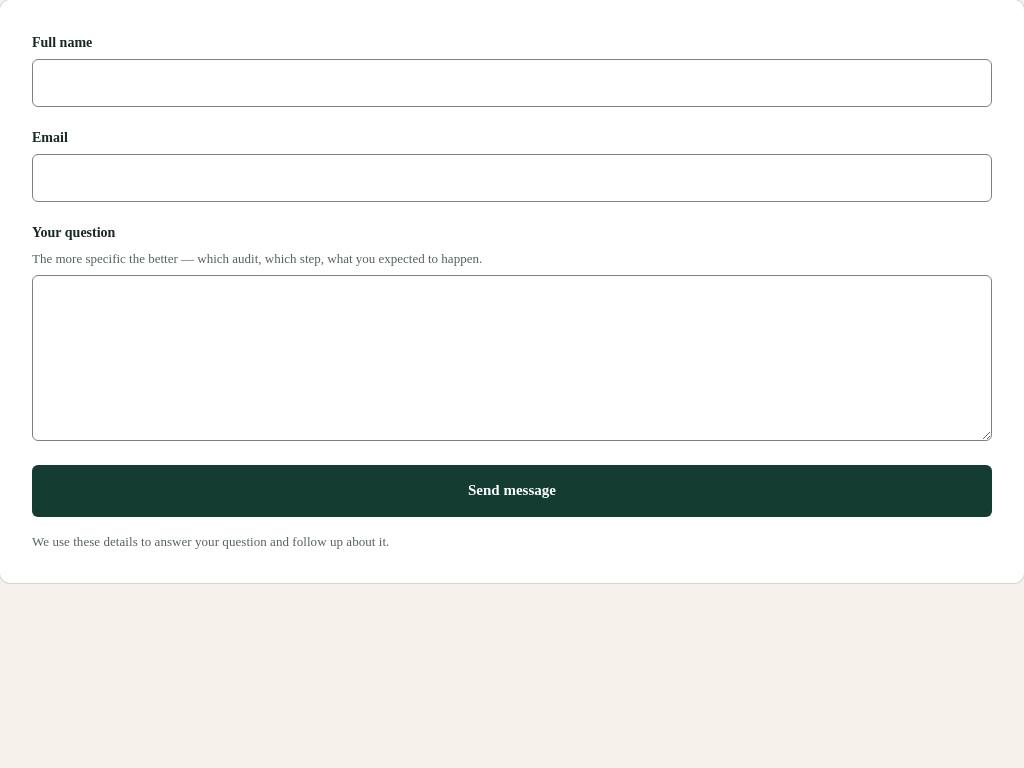
Test: support form › explains Retry-After and retains the draft
Type "Asha Rao" into the field labelled "Full name" at (512, 83), box x1=32 y1=59 x2=992 y2=107
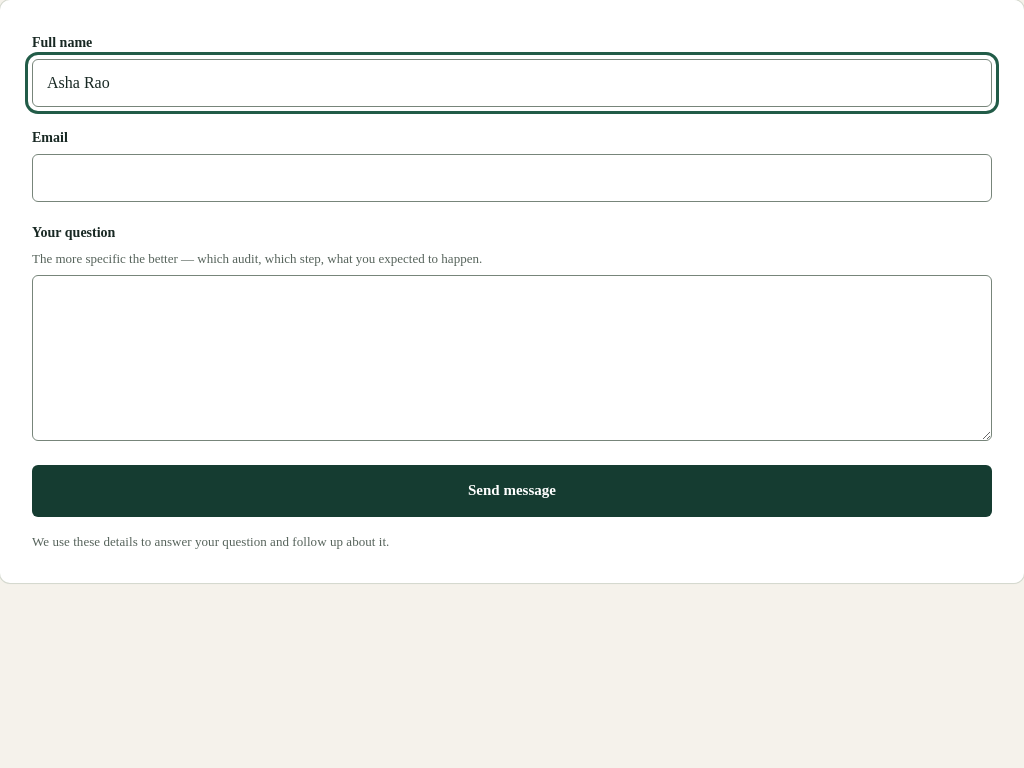
Type "asha@example.com" into the field labelled "Email" at (512, 178), box x1=32 y1=154 x2=992 y2=202
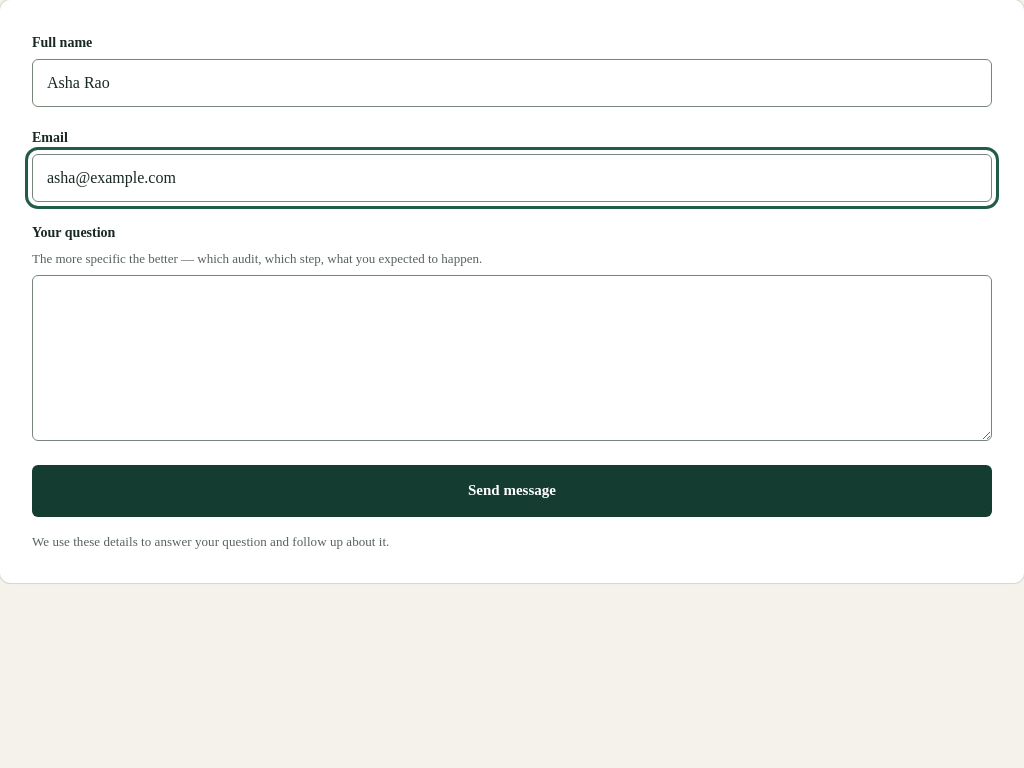
Type "Synthetic support question" into the text box labelled "Your question" at (512, 358), box x1=32 y1=274 x2=992 y2=440
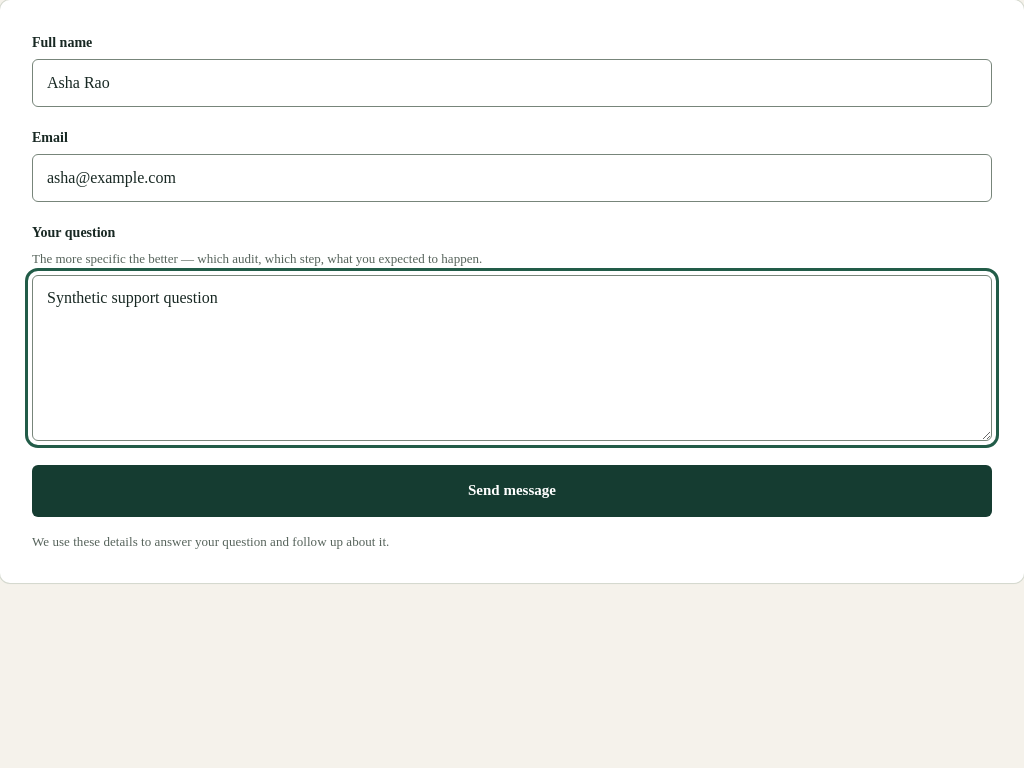
Click the button "Send message" at (512, 490), box x1=32 y1=464 x2=992 y2=516
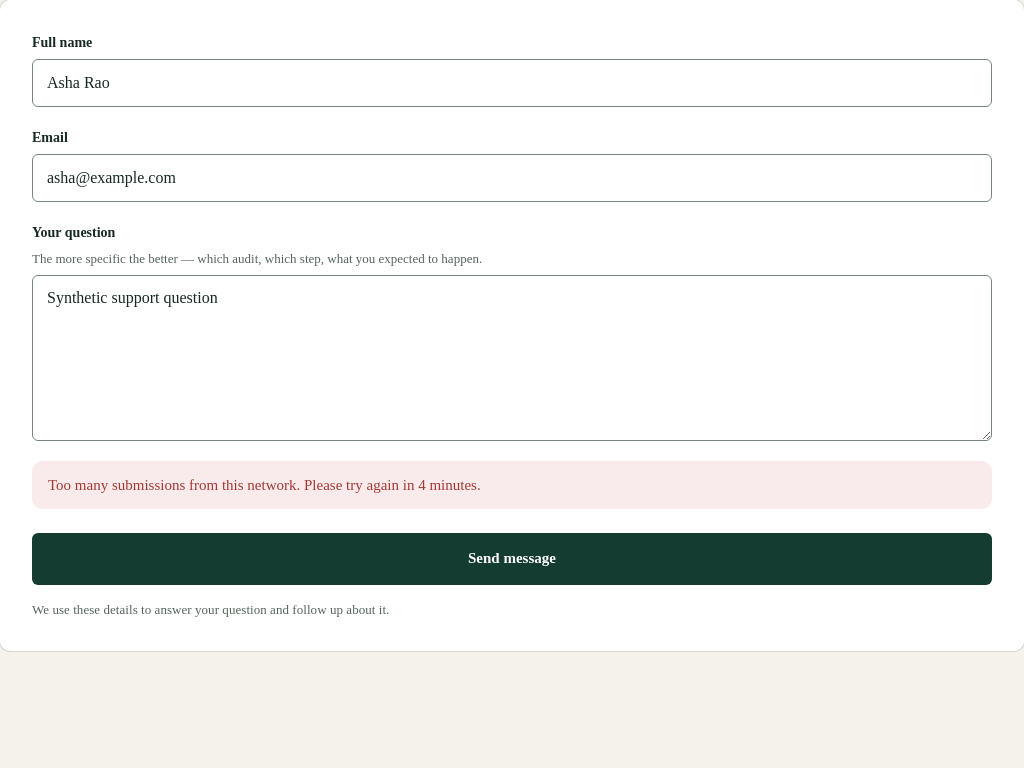
Expected: the message shows "in 4 minutes", x1=48 y1=476 x2=481 y2=492
